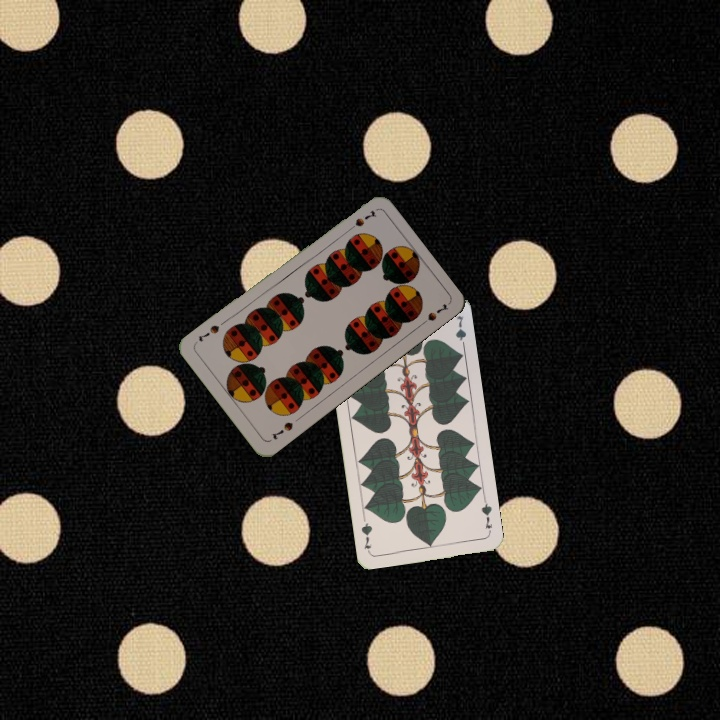G7: (478, 496, 495, 531)
S7: (343, 206, 379, 235), (268, 418, 296, 442)
